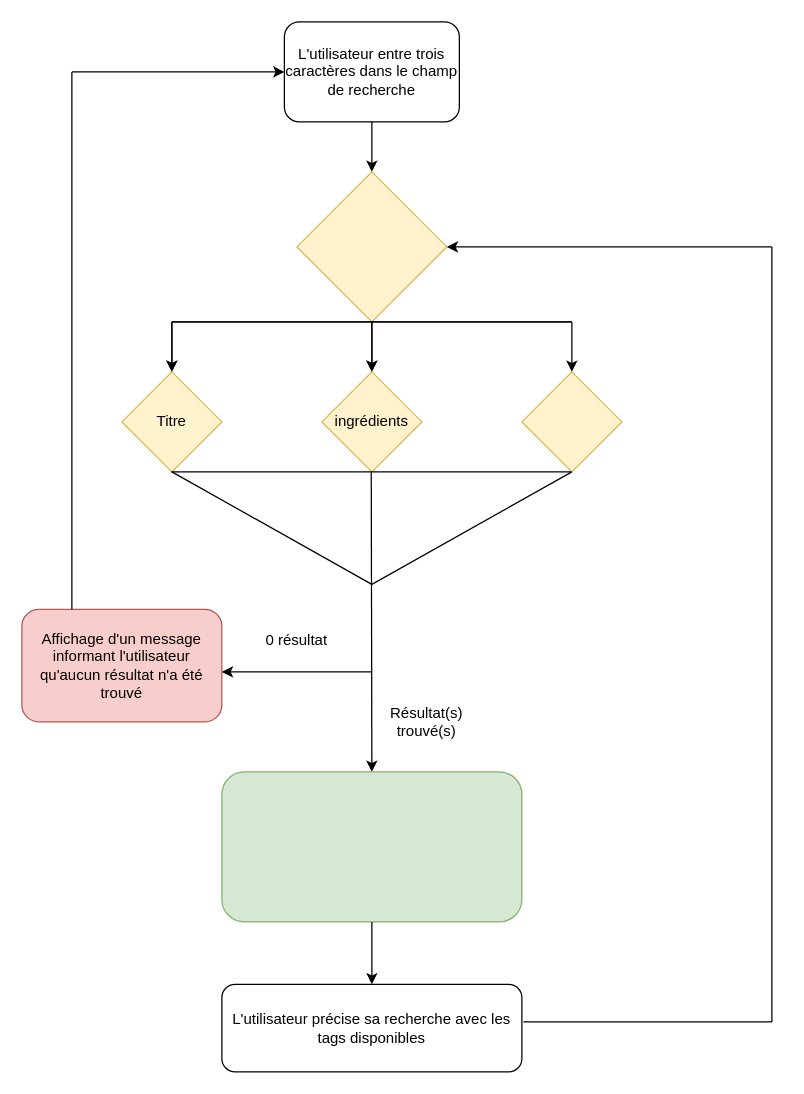
Image size: 804x1094. Some labels were removed from this diagram. Here are the shapes that lost their labels. From the top down, the centre of each, then its label:
the point at 371,246: Recherche des éléments
the point at 571,421: description
the point at 371,846: Actualisation de l'interface Actualisation des champs de recherche avancés
